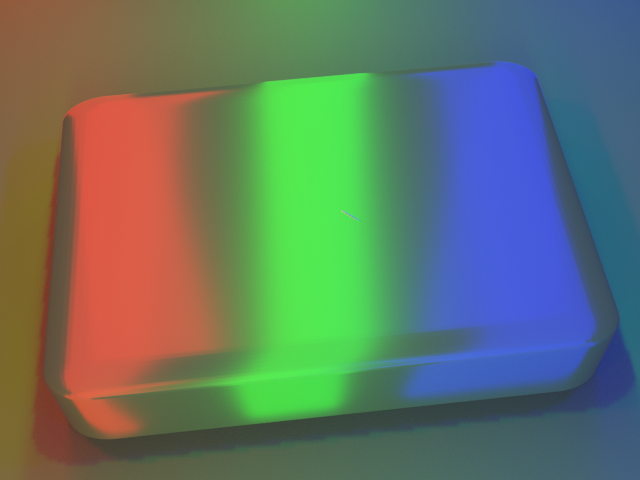scratch: (316, 192, 390, 234)
